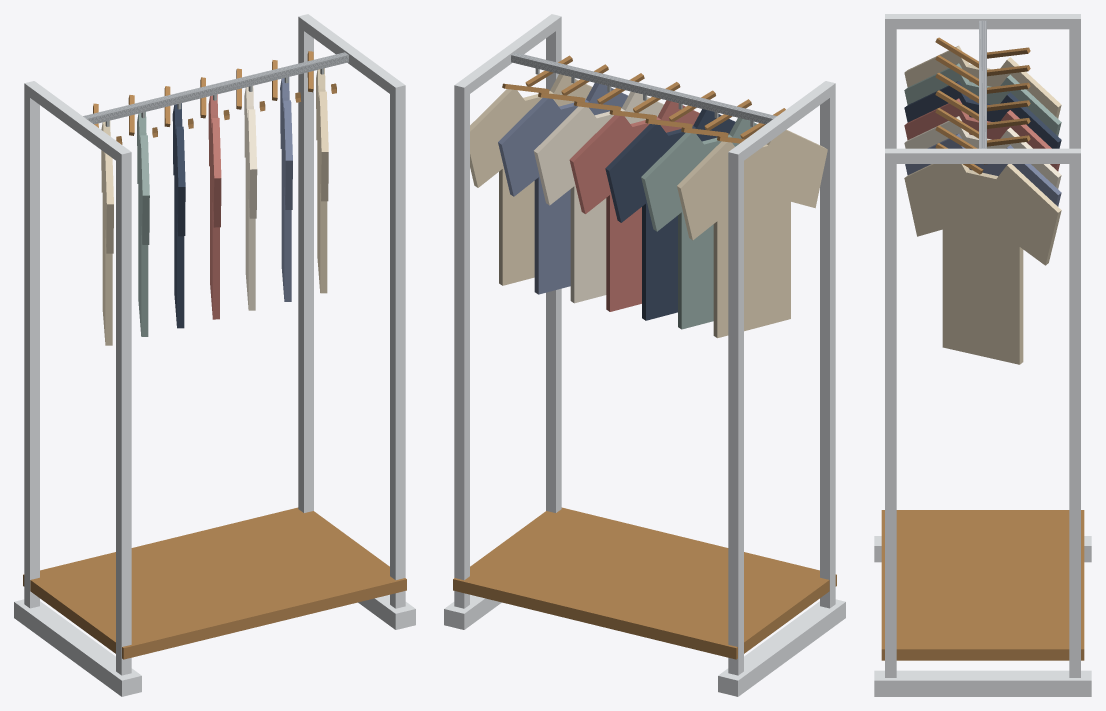
File: shelf-clothing-rail.glb
The picture shows the model from 3 angles, left to right: view 1: azimuth 30°, elevation 25°; view 2: azimuth 150°, elevation 25°; view 3: azimuth 270°, elevation 25°; orthographic projection.
Visible parts, largest first — view 1: fixture-upright (×4), clothing-base-deck, clothing-foot (×2), stock-garments_e6d8be, clothing-top-end-bar (×2), clothing-hanging-rail, stock-garments_f1e8d8, stock-garments_7e89a4, stock-garments_9aafaa, stock-garments_404e64, stock-garments_c17b73; view 2: clothing-base-deck, fixture-upright (×4), stock-garments_e6d8be, stock-garments_7e89a4, stock-garments_f1e8d8, stock-garments_c17b73, stock-garments_404e64, stock-garments_9aafaa, clothing-foot (×2), clothing-top-end-bar (×2), clothing-hanging-rail; view 3: clothing-base-deck, stock-garments_e6d8be, fixture-upright (×4), clothing-foot (×2), clothing-top-end-bar (×2), stock-garments_9aafaa, stock-garments_404e64, stock-garments_c17b73, stock-garments_f1e8d8, stock-garments_7e89a4, clothing-hanging-rail.
Part boxes in pixels (box(x1,y1,x2,y2)): fixture-upright (×4): box(24, 14, 405, 675); clothing-base-deck: box(23, 507, 406, 659); clothing-foot (×2): box(14, 594, 415, 696); stock-garments_e6d8be: box(101, 68, 328, 345); clothing-top-end-bar (×2): box(30, 18, 399, 160); clothing-hanging-rail: box(83, 52, 348, 124); stock-garments_f1e8d8: box(244, 86, 257, 310); stock-garments_7e89a4: box(280, 77, 292, 301); stock-garments_9aafaa: box(137, 112, 149, 336); stock-garments_404e64: box(172, 103, 185, 328); stock-garments_c17b73: box(208, 94, 221, 319); clothing-base-deck: box(453, 507, 836, 659); fixture-upright (×4): box(454, 14, 835, 675); stock-garments_e6d8be: box(470, 74, 827, 338); stock-garments_7e89a4: box(498, 83, 627, 294); stock-garments_f1e8d8: box(534, 91, 663, 303); stock-garments_c17b73: box(569, 100, 699, 311); stock-garments_404e64: box(605, 109, 735, 320); stock-garments_9aafaa: box(641, 117, 757, 329); clothing-foot (×2): box(444, 594, 845, 696); clothing-top-end-bar (×2): box(460, 18, 829, 160); clothing-hanging-rail: box(511, 52, 776, 124); clothing-base-deck: box(881, 510, 1084, 660); stock-garments_e6d8be: box(904, 45, 1061, 364); fixture-upright (×4): box(885, 14, 1080, 677); clothing-foot (×2): box(874, 536, 1091, 696); clothing-top-end-bar (×2): box(896, 14, 1069, 163); stock-garments_9aafaa: box(904, 63, 1061, 136); stock-garments_404e64: box(904, 81, 1061, 148); stock-garments_c17b73: box(904, 98, 1059, 171); stock-garments_f1e8d8: box(904, 116, 1061, 188); stock-garments_7e89a4: box(905, 133, 1061, 206); clothing-hanging-rail: box(979, 20, 986, 148).
Bounding box in the file's own units: 0.945 × 1.65 × 0.6.
Materials: 10 (1 with a texture image).
